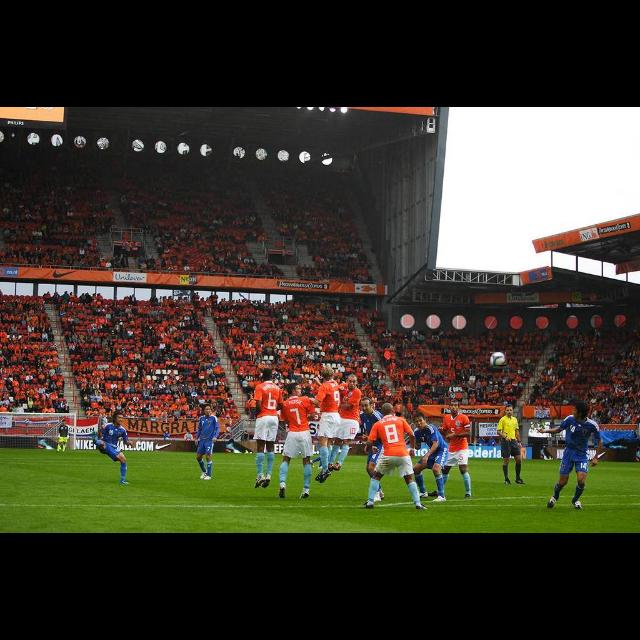Football: (490, 352, 506, 366)
